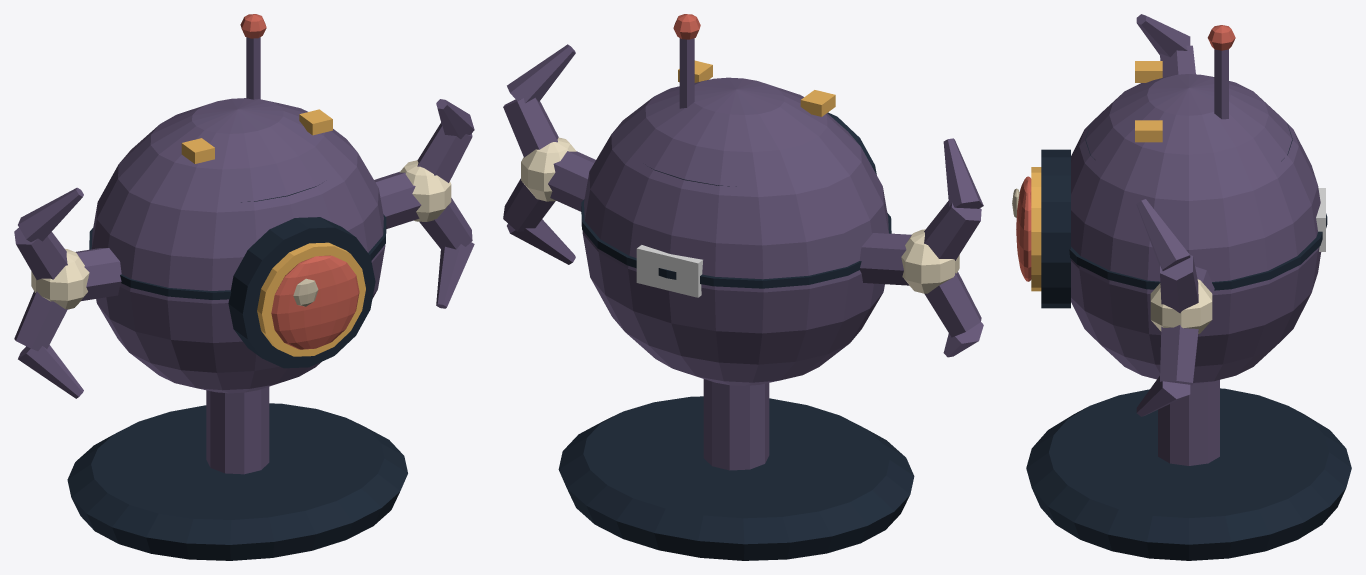
File: space_scene_drone_override.glb
The picture shows the model from 3 angles, left to right: view 1: azimuth 30°, elevation 25°; view 2: azimuth 150°, elevation 25°; view 3: azimuth 270°, elevation 25°; orthographic projection. The views are drawn at different scales.
Visible parts, largest first — view 1: FixedDetails, BrassTrim; view 2: FixedDetails, BrassTrim, WoodBody; view 3: FixedDetails, BrassTrim, WoodBody.
Boxes of the visible parts, left/top/right/bottom form: FixedDetails: left=14, top=14, right=474, bottom=560; BrassTrim: left=31, top=109, right=451, bottom=356; FixedDetails: left=503, top=14, right=983, bottom=560; BrassTrim: left=521, top=60, right=959, bottom=293; WoodBody: left=636, top=245, right=702, bottom=297; FixedDetails: left=1012, top=14, right=1351, bottom=560; BrassTrim: left=1031, top=61, right=1212, bottom=333; WoodBody: left=1316, top=188, right=1325, bottom=251.
Bounding box in the file's own units: 0.5966 × 0.5786 × 0.3718.
